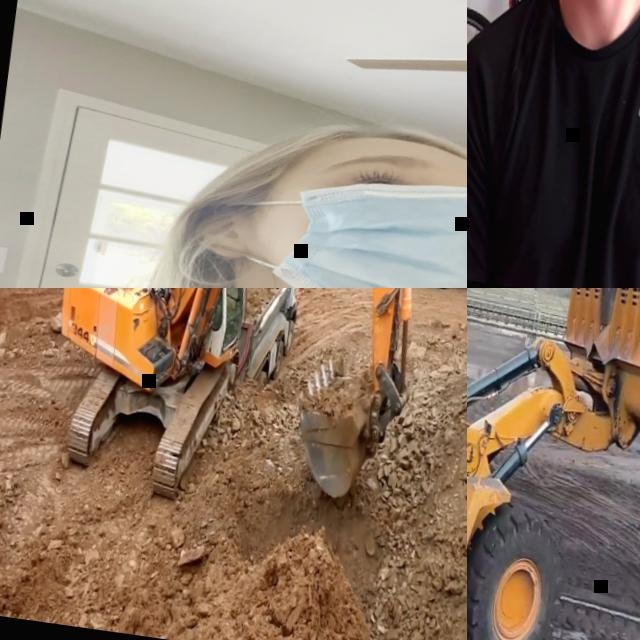Mask: (204, 153, 467, 288)
NO-Hardhat: (247, 110, 467, 184)
NO-Safety Vest: (467, 0, 640, 288)
Person: (0, 73, 467, 288), (467, 0, 640, 288), (211, 304, 222, 329)
machinery: (31, 288, 455, 535), (467, 288, 640, 640), (223, 288, 312, 389)
